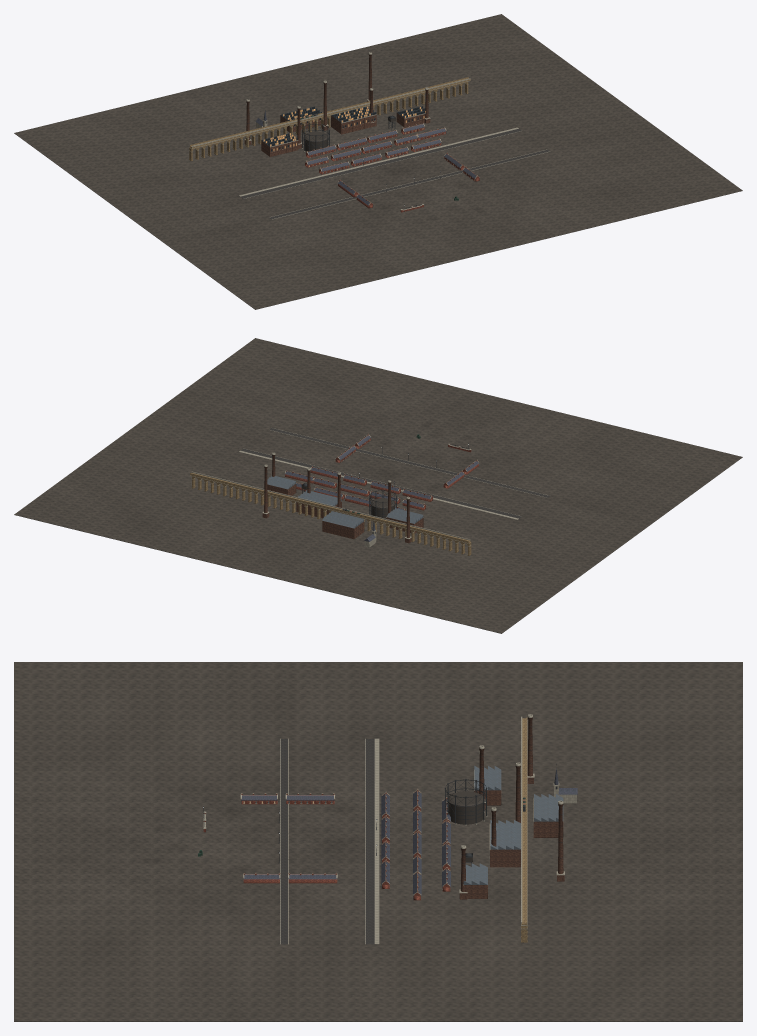
The model's file is town.glb.
3 views of the same model, one above another, from view 1: azimuth 30°, elevation 25°; view 2: azimuth 150°, elevation 25°; view 3: azimuth 270°, elevation 25° (orthographic). The views are drawn at different scales.
Visible parts, largest first — view 1: ground, viaduct-brick, stone-trim, street-setts, works-brick, chimney-brick, house-window, iron, shed-iron, house-window-glow, back-pavement; view 2: ground, viaduct-brick, stone-trim, street-setts, shed-iron, works-brick, chimney-brick; view 3: ground, street-setts, shed-iron, stone-trim, chimney-brick, works-brick, viaduct-brick, iron, gasholder-iron, back-pavement.
Part boxes in pixels (x1,y1,x2,y2): ground: (14,14,742,309); viaduct-brick: (189,77,470,161); stone-trim: (189,52,549,219); street-setts: (241,129,549,219); works-brick: (261,113,425,156); chimney-brick: (244,54,430,148); house-window: (265,106,425,151); iron: (247,61,440,211); shed-iron: (261,106,425,146); house-window-glow: (263,106,425,150); back-pavement: (239,127,518,196); ground: (14,338,742,633); viaduct-brick: (190,473,471,555); stone-trim: (190,428,549,547); street-setts: (241,428,549,518); shed-iron: (267,476,423,528); works-brick: (267,484,423,539); chimney-brick: (262,455,411,543); ground: (14,662,742,1021); street-setts: (280,739,374,944); shed-iron: (463,765,563,884); stone-trim: (203,714,576,944); chimney-brick: (459,717,564,899); works-brick: (463,790,563,898); viaduct-brick: (521,717,527,942); iron: (203,726,562,883); gasholder-iron: (448,791,483,861); back-pavement: (375,738,379,944).
Bounding box in the file's own units: 70 × 7.48 × 60.
Materials: 20 (14 with a texture image).
